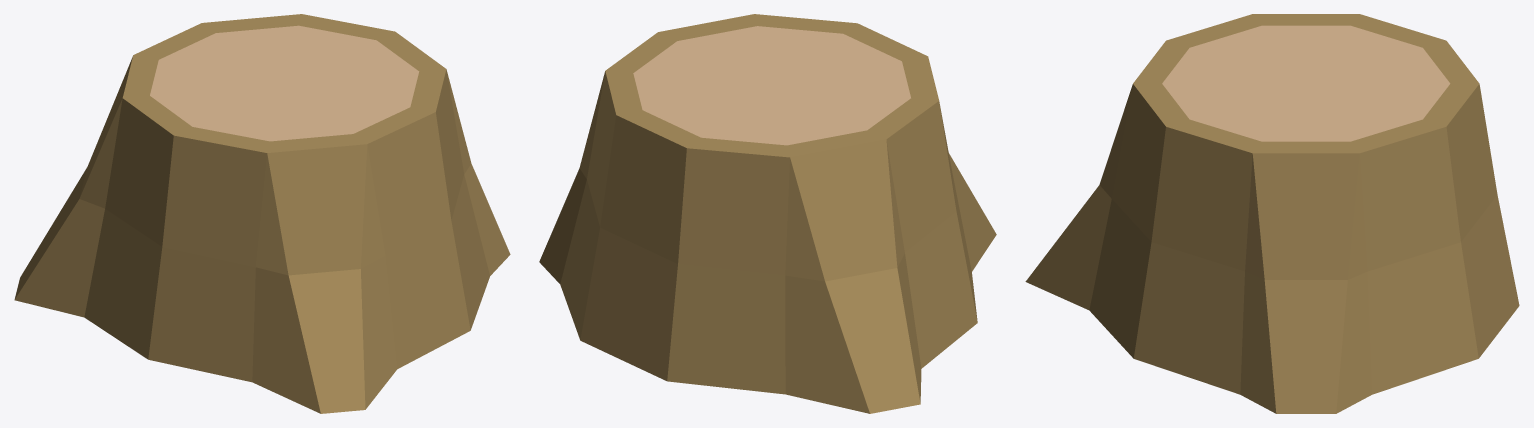
File: Oak_Stump_03.fbx
The picture shows the model from 3 angles, left to right: view 1: azimuth 30°, elevation 25°; view 2: azimuth 150°, elevation 25°; view 3: azimuth 270°, elevation 25°; orthographic projection. The views are drawn at different scales.
Parts seen in each view (by area): view 1: Oak_Stump_03; view 2: Oak_Stump_03; view 3: Oak_Stump_03.
Part boxes in pixels (x1,y1,x2,y2): Oak_Stump_03: [14, 14, 510, 413]; Oak_Stump_03: [539, 14, 996, 413]; Oak_Stump_03: [1025, 14, 1519, 413].
Bounding box in the file's own units: 98.43 × 48.35 × 96.07.
